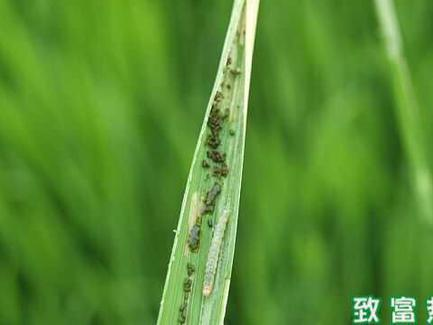pest: (200, 209, 231, 295)
